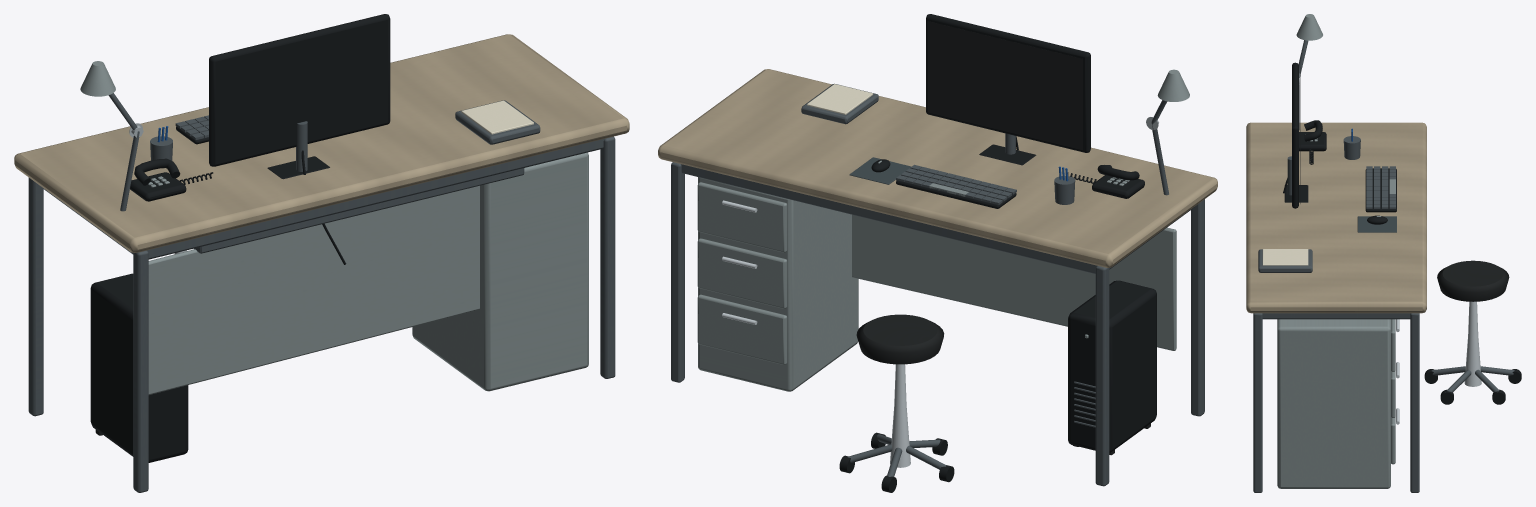
File: JobComputerDesk.fbx
3 views of the same model, side by side, from view 1: azimuth 30°, elevation 25°; view 2: azimuth 150°, elevation 25°; view 3: azimuth 270°, elevation 25° (orthographic). The views are drawn at different scales.
Parts seen in each view (by area): view 1: JobComputerDesk__Body, JobComputerDesk__Top, JobComputerDesk__Clutter, JobComputerDesk__Cabinet, JobComputerDesk; view 2: JobComputerDesk__Top, JobComputerDesk__Cabinet, JobComputerDesk__Clutter, JobComputerDesk__Body, JobComputerDesk__Screen, JobComputerDesk, JobComputerDesk__Chair; view 3: JobComputerDesk__Top, JobComputerDesk__Cabinet, JobComputerDesk__Clutter, JobComputerDesk__Chair, JobComputerDesk, JobComputerDesk__Body.
Part boxes in pixels (<box>): JobComputerDesk__Body: <box>39,138,604,394</box>; JobComputerDesk__Top: <box>14,34,629,252</box>; JobComputerDesk__Clutter: <box>80,14,540,462</box>; JobComputerDesk__Cabinet: <box>412,152,588,391</box>; JobComputerDesk: <box>28,136,615,492</box>; JobComputerDesk__Top: <box>658,69,1217,267</box>; JobComputerDesk__Cabinet: <box>697,177,858,391</box>; JobComputerDesk__Clutter: <box>801,14,1189,455</box>; JobComputerDesk__Body: <box>681,164,1194,350</box>; JobComputerDesk__Screen: <box>927,21,1082,150</box>; JobComputerDesk: <box>671,162,1204,486</box>; JobComputerDesk__Chair: <box>839,314,954,492</box>; JobComputerDesk__Top: <box>1246,122,1426,313</box>; JobComputerDesk__Cabinet: <box>1277,319,1399,488</box>; JobComputerDesk__Clutter: <box>1258,14,1396,272</box>; JobComputerDesk__Chair: <box>1424,260,1521,404</box>; JobComputerDesk: <box>1253,313,1419,492</box>; JobComputerDesk__Body: <box>1262,313,1410,319</box>.
Bounding box in the file's own units: 156 × 119 × 98.21.
Materials: 2 (1 with a texture image).
